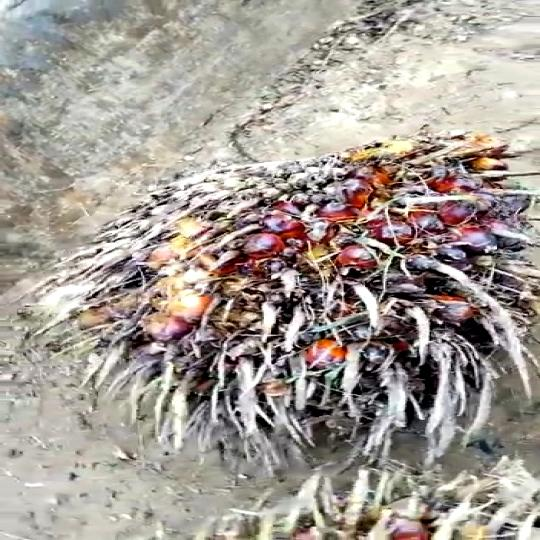terlalu masak: (38, 108, 540, 495)
